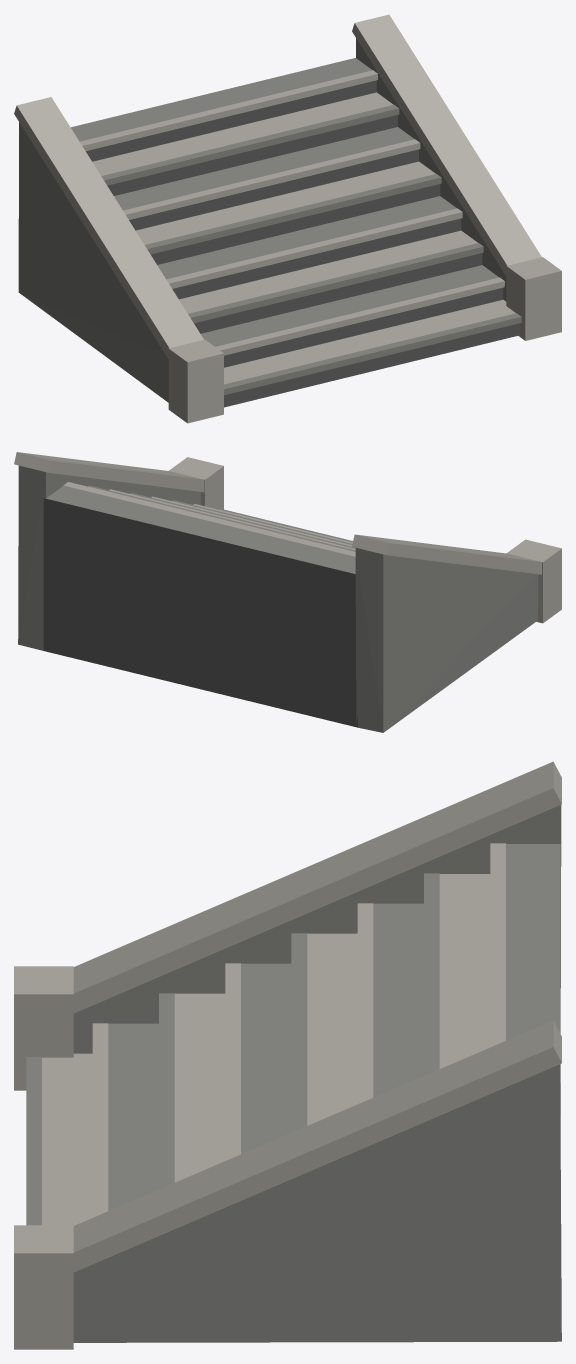
Rendered from stairs_stone.fbx.
3 renders of one model, top to bottom at view 1: azimuth 30°, elevation 25°; view 2: azimuth 150°, elevation 25°; view 3: azimuth 270°, elevation 25°, orthographic. The views are drawn at different scales.
Visible parts, largest first — view 1: stairs_stone; view 2: stairs_stone; view 3: stairs_stone.
Boxes of the visible parts, box(x1,y1,x2,y2) form: stairs_stone: box(14, 14, 561, 423); stairs_stone: box(14, 452, 561, 732); stairs_stone: box(14, 761, 561, 1349).
Bounding box in the file's own units: 4.1 × 2.01 × 3.31.
